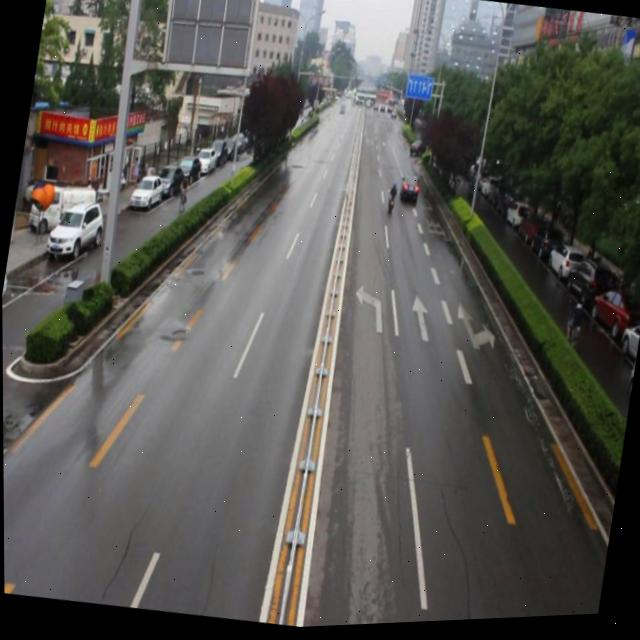car: (397, 175, 420, 204), (408, 141, 427, 161)
